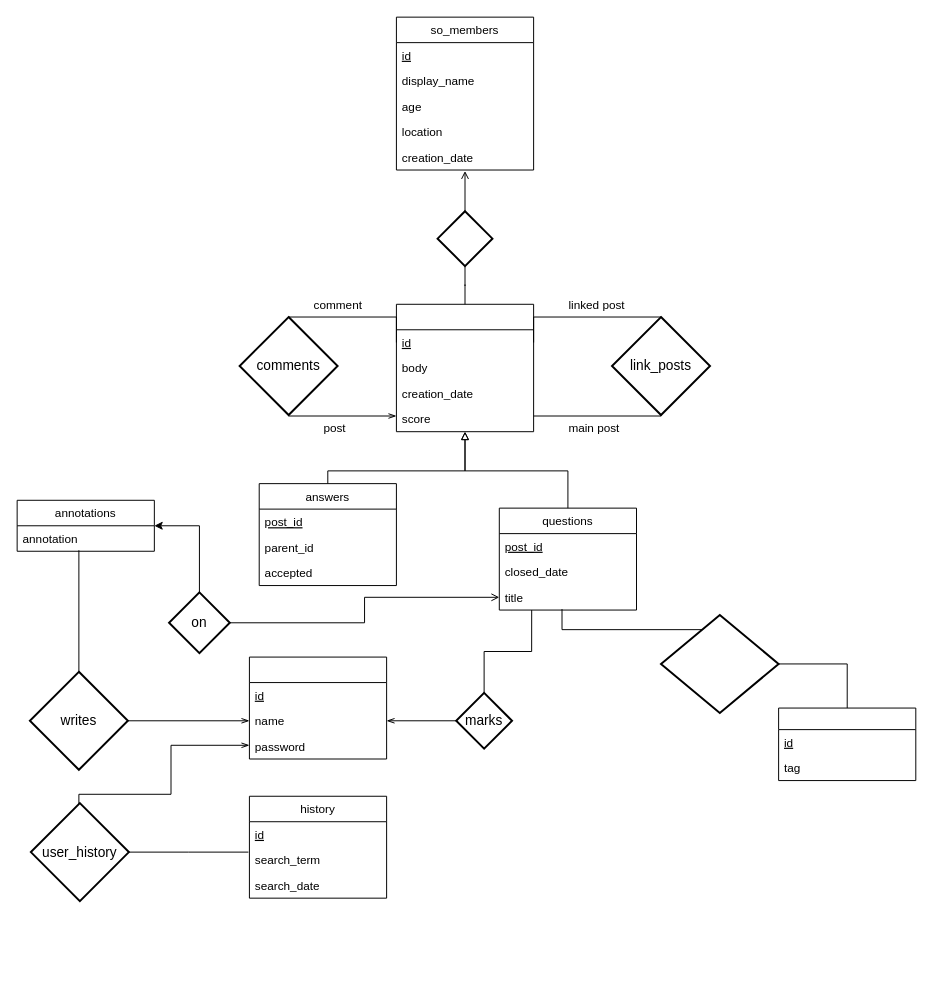
Some shapes in this 933 by 996 pixel diagram are drawn without their labels. The box of each missing label's shape, as (x1, y1, x2, y2) in pixels:
makes: (436, 210, 493, 267)
questions_tags: (660, 613, 779, 713)
submissions: (395, 303, 534, 432)
tags: (778, 707, 916, 781)
users: (248, 656, 387, 759)
